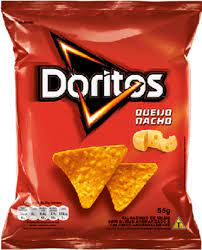Doritos: (2, 4, 194, 240)
